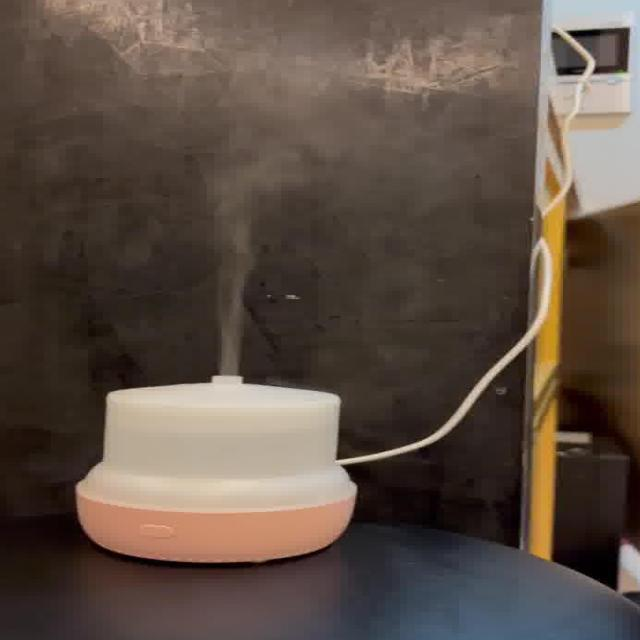fire: (190, 103, 393, 374)
